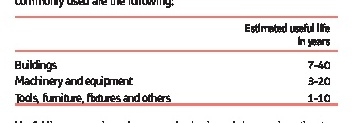table: (0, 0, 354, 123)
